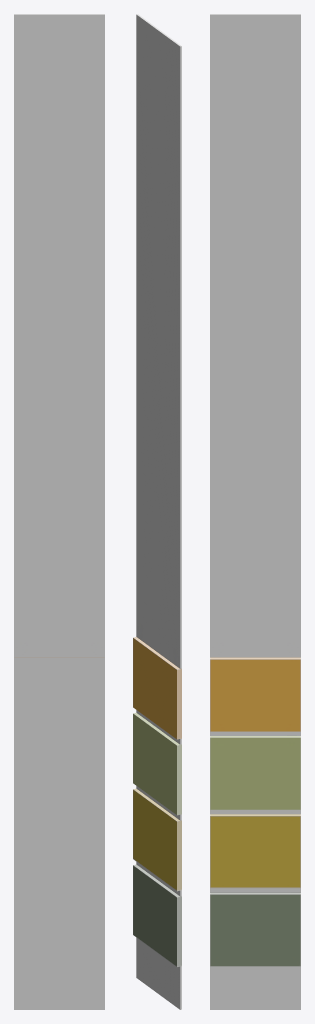
File: pH_TestStrip.fbx
3 renders of one model, left to right at view 1: azimuth 90°, elevation 25°; view 2: azimuth 210°, elevation 25°; view 3: azimuth 270°, elevation 25°, orthographic. The views are drawn at different scales.
Visible parts, largest first — view 1: ph_TestStrip; view 2: ph_TestStrip; view 3: ph_TestStrip.
Boxes of the visible parts, left/top/right/bottom form: ph_TestStrip: left=14, top=14, right=104, bottom=1009; ph_TestStrip: left=133, top=14, right=181, bottom=1009; ph_TestStrip: left=210, top=14, right=300, bottom=1009.
Bounding box in the file's own units: 0.000549 × 0.1047 × 0.00866.
